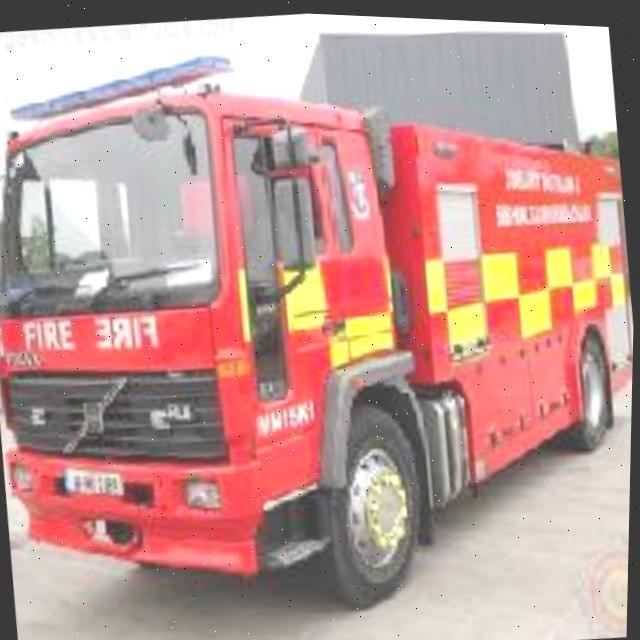emergency: (0, 31, 639, 612)
